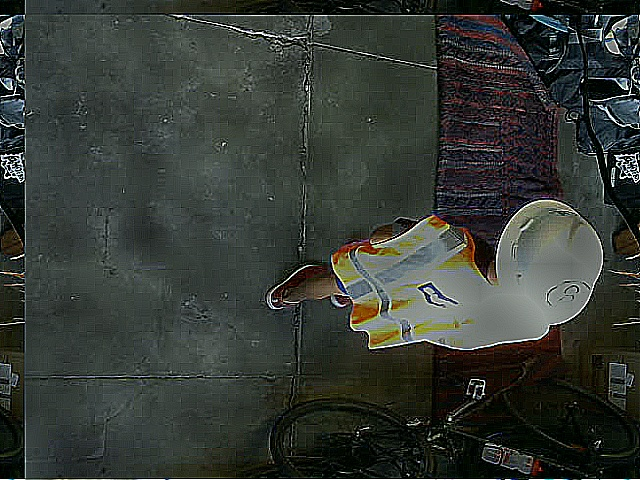eight: (546, 279, 590, 312)
